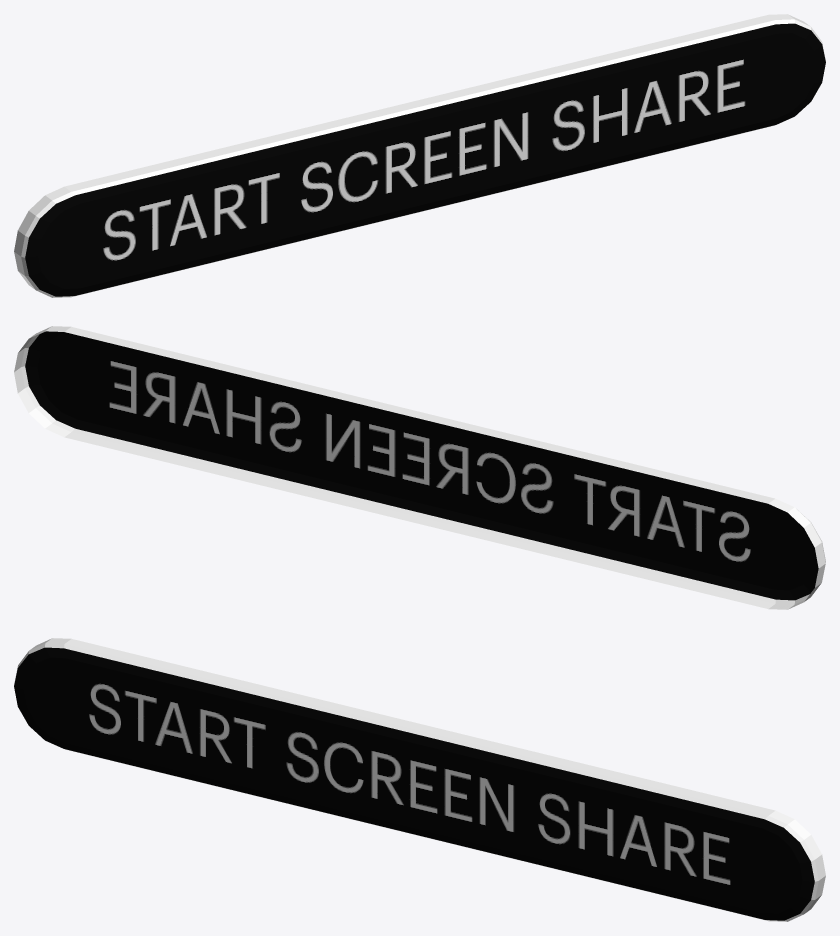
Rendered from button-start-screen-share.fbx.
3 views of the same model, one above another, from view 1: azimuth 30°, elevation 25°; view 2: azimuth 150°, elevation 25°; view 3: azimuth 330°, elevation 25° (orthographic).
Visible parts, largest first — view 1: Button-Screenshare; view 2: Button-Screenshare; view 3: Button-Screenshare.
Part boxes in pixels (x1=…): Button-Screenshare: x1=14, y1=14, x2=825, y2=297; Button-Screenshare: x1=14, y1=326, x2=825, y2=609; Button-Screenshare: x1=14, y1=638, x2=825, y2=921.
Bounding box in the file's own units: 104 × 13 × 2.43.
Materials: 1 (1 with a texture image).
